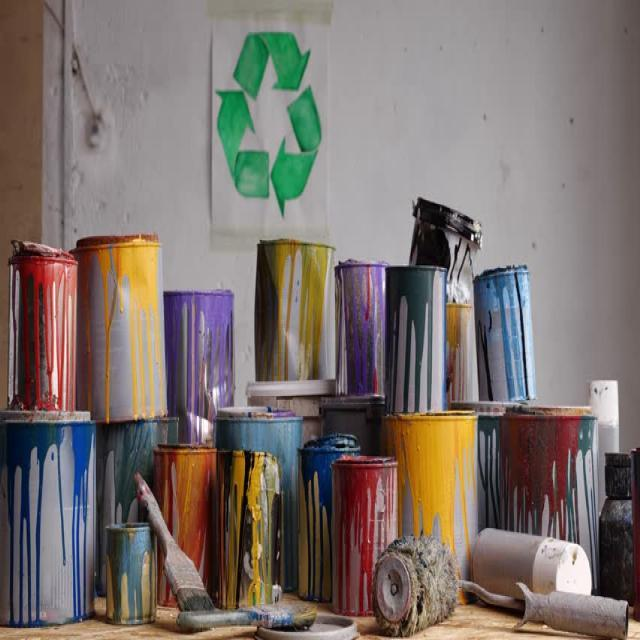B3: (296, 433, 360, 602), (331, 457, 398, 616), (447, 407, 515, 548), (384, 265, 448, 411), (472, 266, 534, 402)
zat_kimia: (0, 416, 96, 624), (499, 406, 600, 589), (72, 235, 169, 422), (384, 412, 477, 598), (7, 225, 89, 410), (410, 198, 481, 404), (96, 416, 176, 598), (254, 240, 336, 383), (164, 291, 234, 447), (216, 450, 284, 610), (152, 444, 218, 608), (333, 260, 389, 398)
